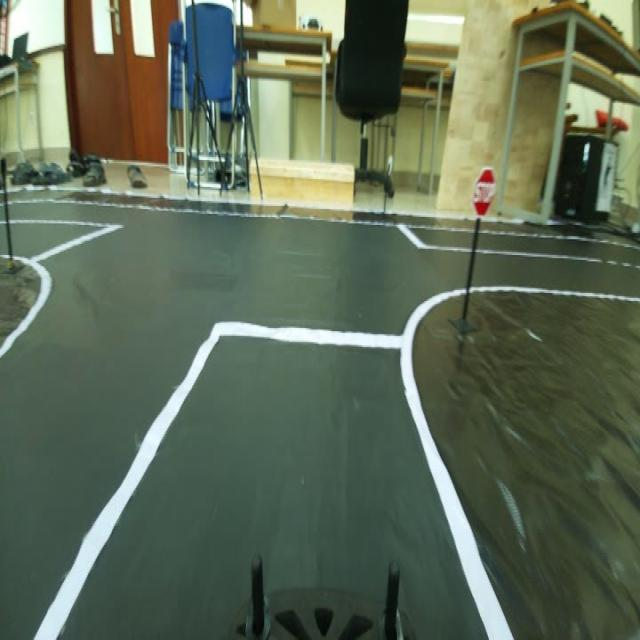stop: (466, 158, 501, 218)
